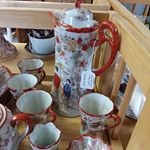cups: (76, 91, 121, 138), (13, 90, 58, 125), (15, 58, 48, 88)
